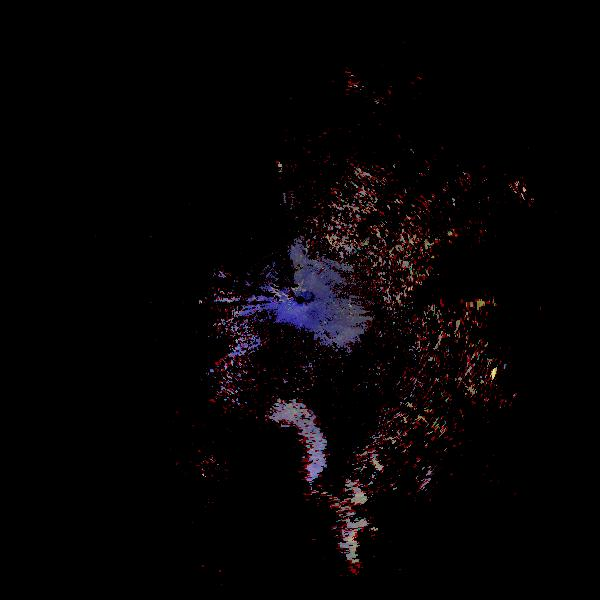roost: (240, 398, 336, 494), (285, 487, 363, 565)
